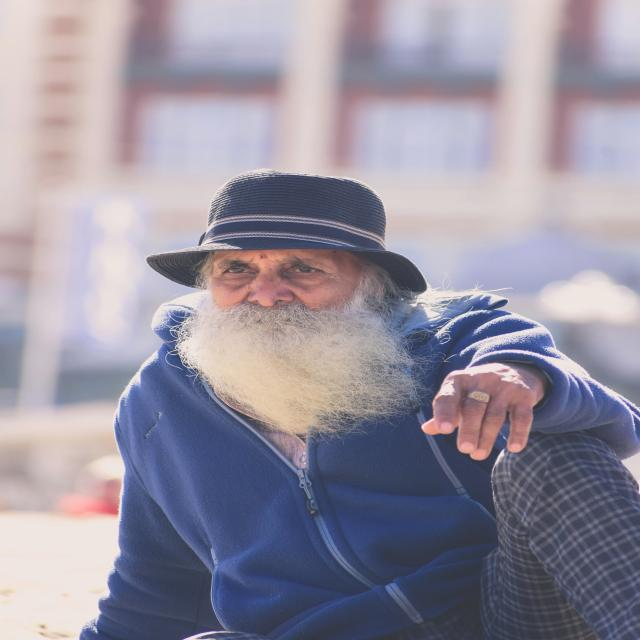adult: (62, 169, 637, 640)
